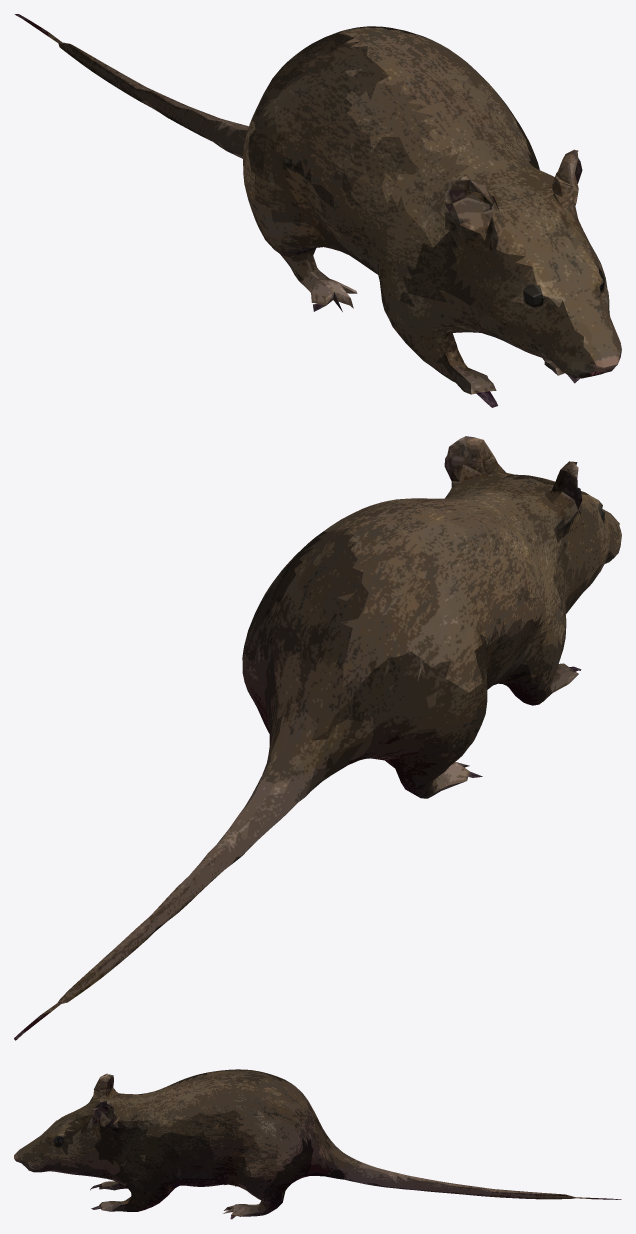
File: street_rat.obj
3 renders of one model, top to bottom at view 1: azimuth 30°, elevation 25°; view 2: azimuth 150°, elevation 25°; view 3: azimuth 270°, elevation 25°, orthographic. The views are drawn at different scales.
Visible parts, largest first — view 1: mesh; view 2: mesh; view 3: mesh.
Boxes of the visible parts, x1,y1,x2,y2 form: mesh: [14, 14, 621, 407]; mesh: [14, 436, 621, 1040]; mesh: [14, 1069, 621, 1219].
Size of the model in its own units: 13.2 by 14 by 61.32.
1 material, 1 textured.
